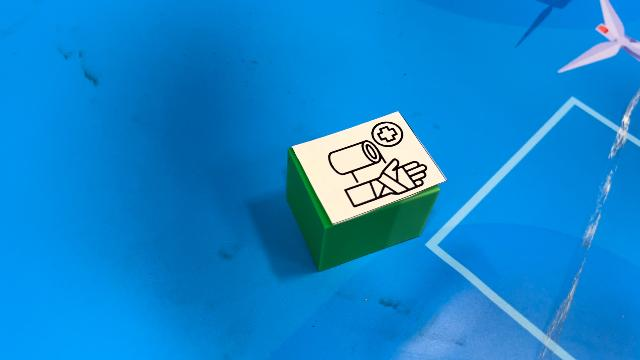bandage: (286, 109, 447, 273)
